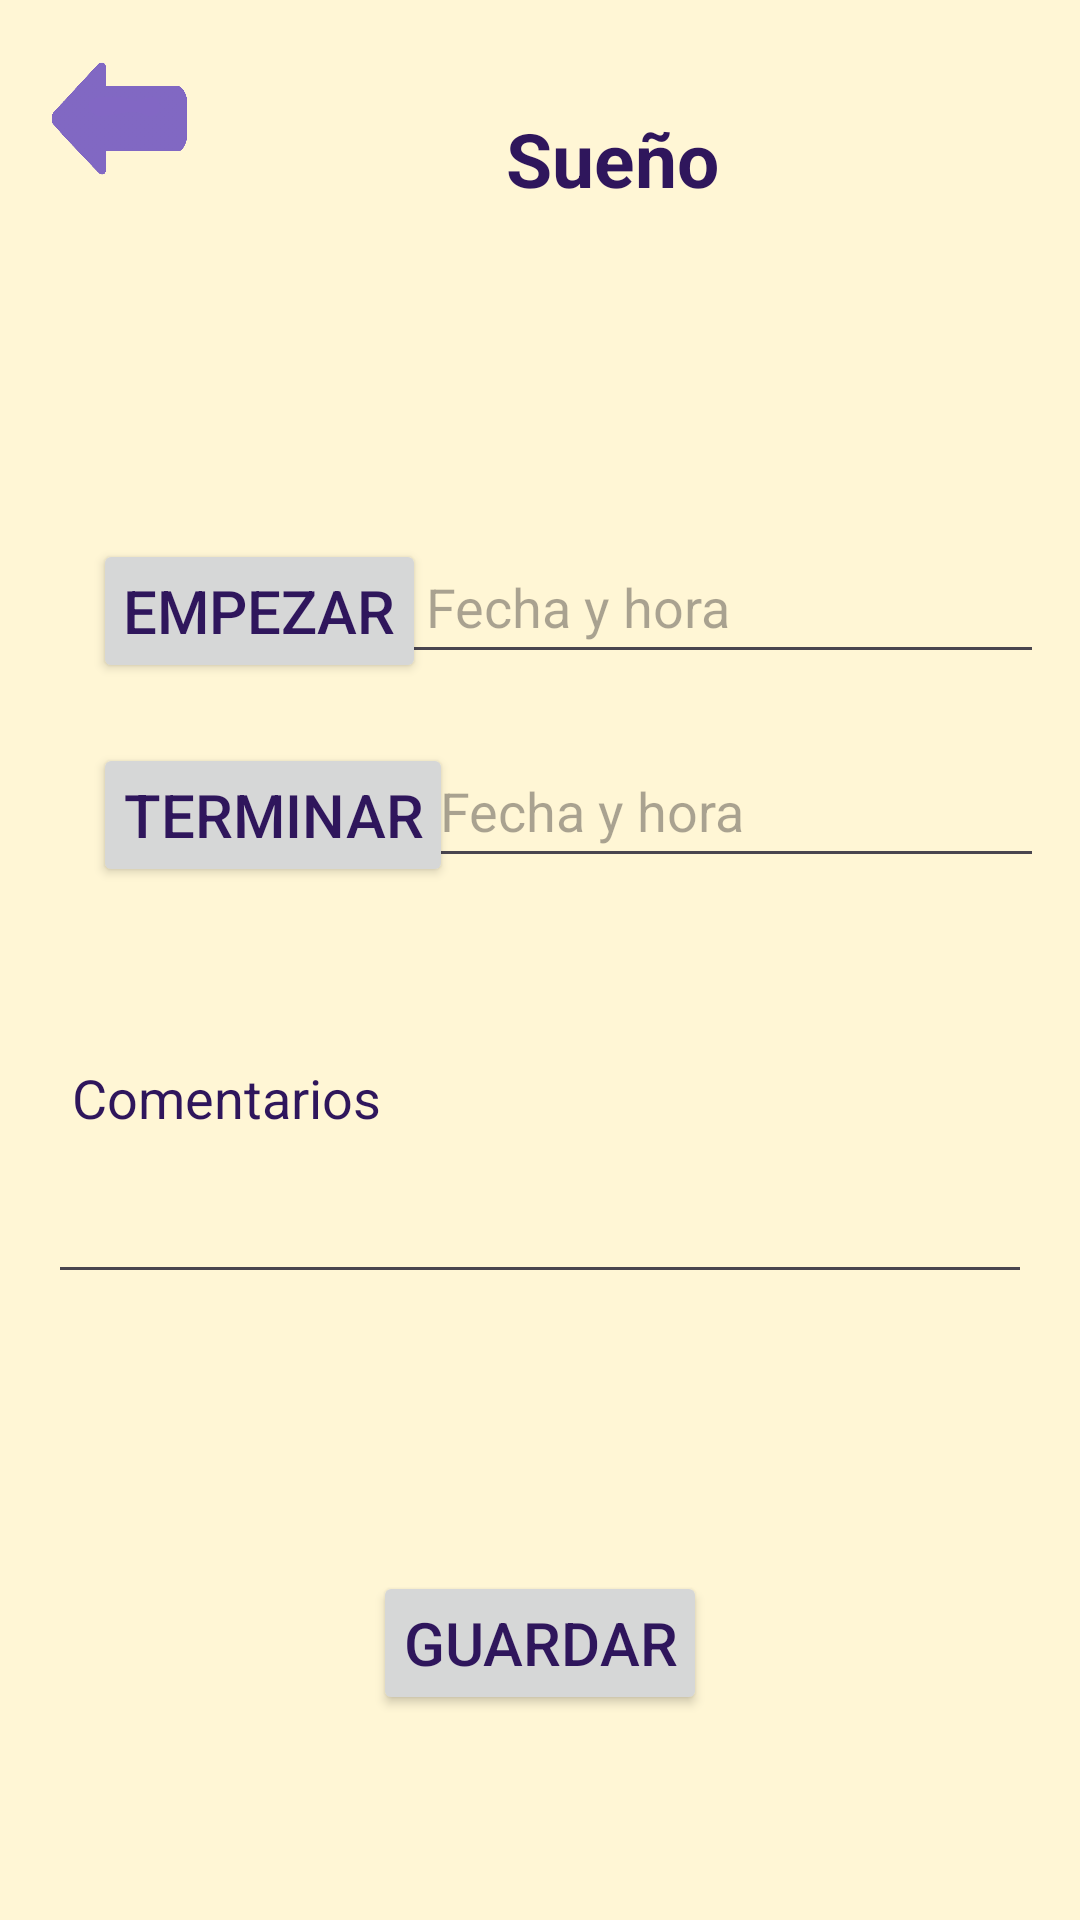

Named icons in this screenshot (1080 x 1920) and their centers, (x,y):
atras: (119,119)
